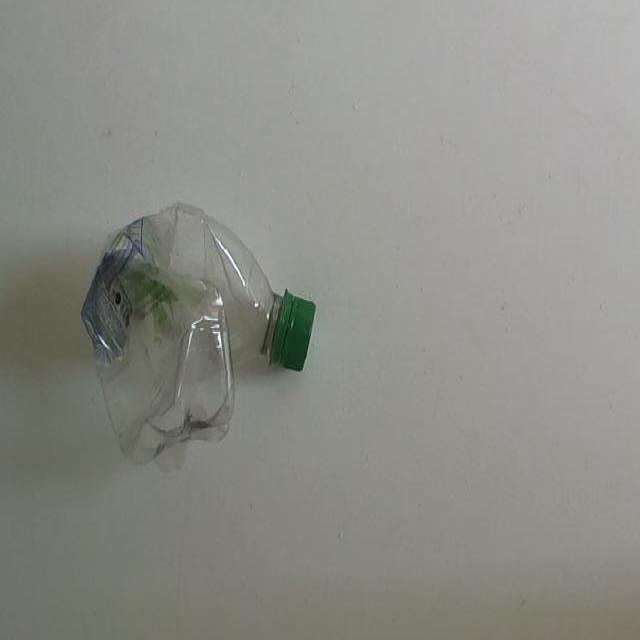defect: (77, 198, 319, 474)
